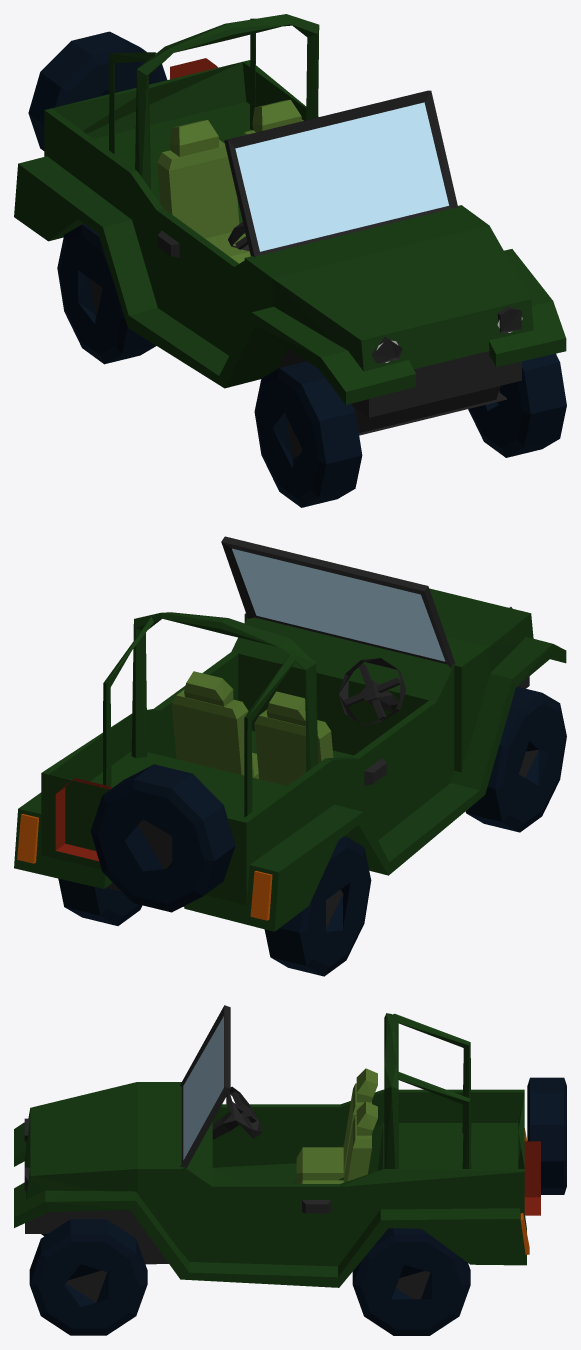
Rendered from Jeep.glb.
3 views of the same model, one above another, from view 1: azimuth 30°, elevation 25°; view 2: azimuth 150°, elevation 25°; view 3: azimuth 270°, elevation 25° (orthographic). The views are drawn at different scales.
Visible parts, largest first — view 1: Jeep; view 2: Jeep; view 3: Jeep.
Part boxes in pixels (<box>): Jeep: <box>14,14,566,507</box>; Jeep: <box>14,536,566,976</box>; Jeep: <box>14,1005,566,1335</box>.
Bounding box in the file's own units: 2.04 × 2.33 × 4.56.
